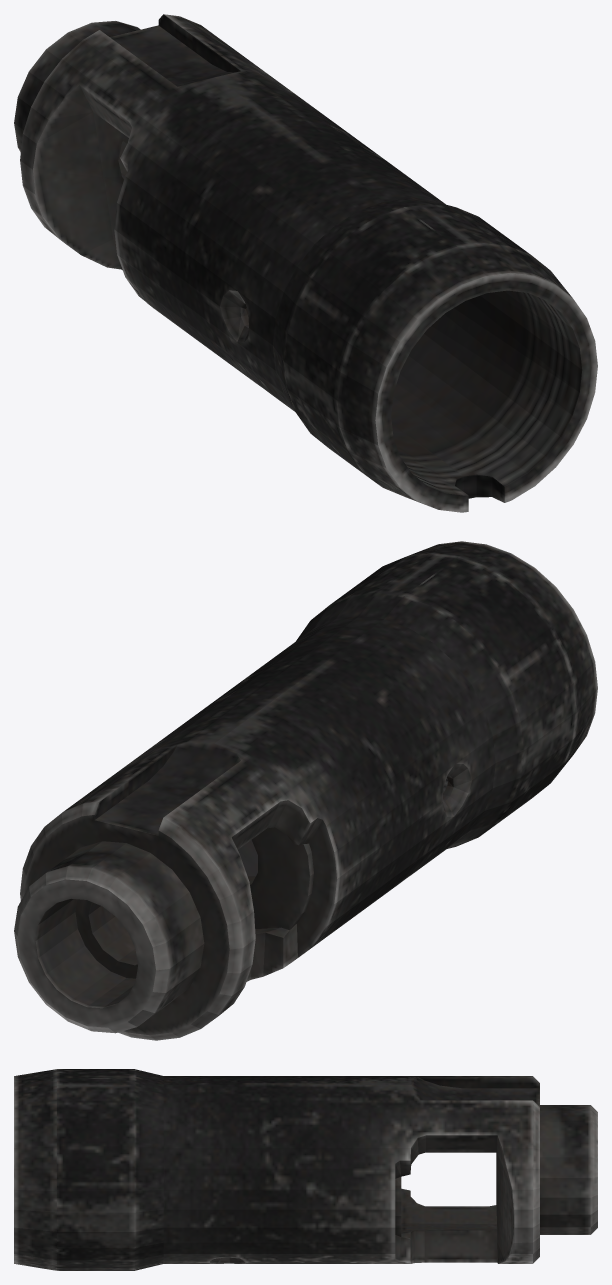
3 views of the same model, one above another, from view 1: azimuth 30°, elevation 25°; view 2: azimuth 150°, elevation 25°; view 3: azimuth 270°, elevation 25° (orthographic). The views are drawn at different scales.
Parts seen in each view (by area): view 1: TW_5649aa744bdc2ded0b8b457e_PZ_Import; view 2: TW_5649aa744bdc2ded0b8b457e_PZ_Import; view 3: TW_5649aa744bdc2ded0b8b457e_PZ_Import.
Part boxes in pixels (<box>): TW_5649aa744bdc2ded0b8b457e_PZ_Import: <box>14,14,597,512</box>; TW_5649aa744bdc2ded0b8b457e_PZ_Import: <box>14,541,597,1040</box>; TW_5649aa744bdc2ded0b8b457e_PZ_Import: <box>14,1069,597,1270</box>.
Bounding box in the file's own units: 0.0162 × 0.0469 × 0.0162.
1 material, 1 textured.
